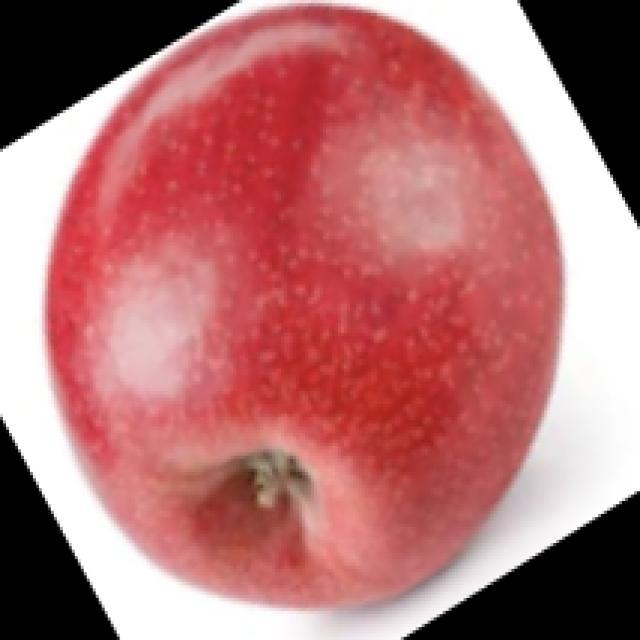Fresh Apple: (44, 0, 562, 604)
